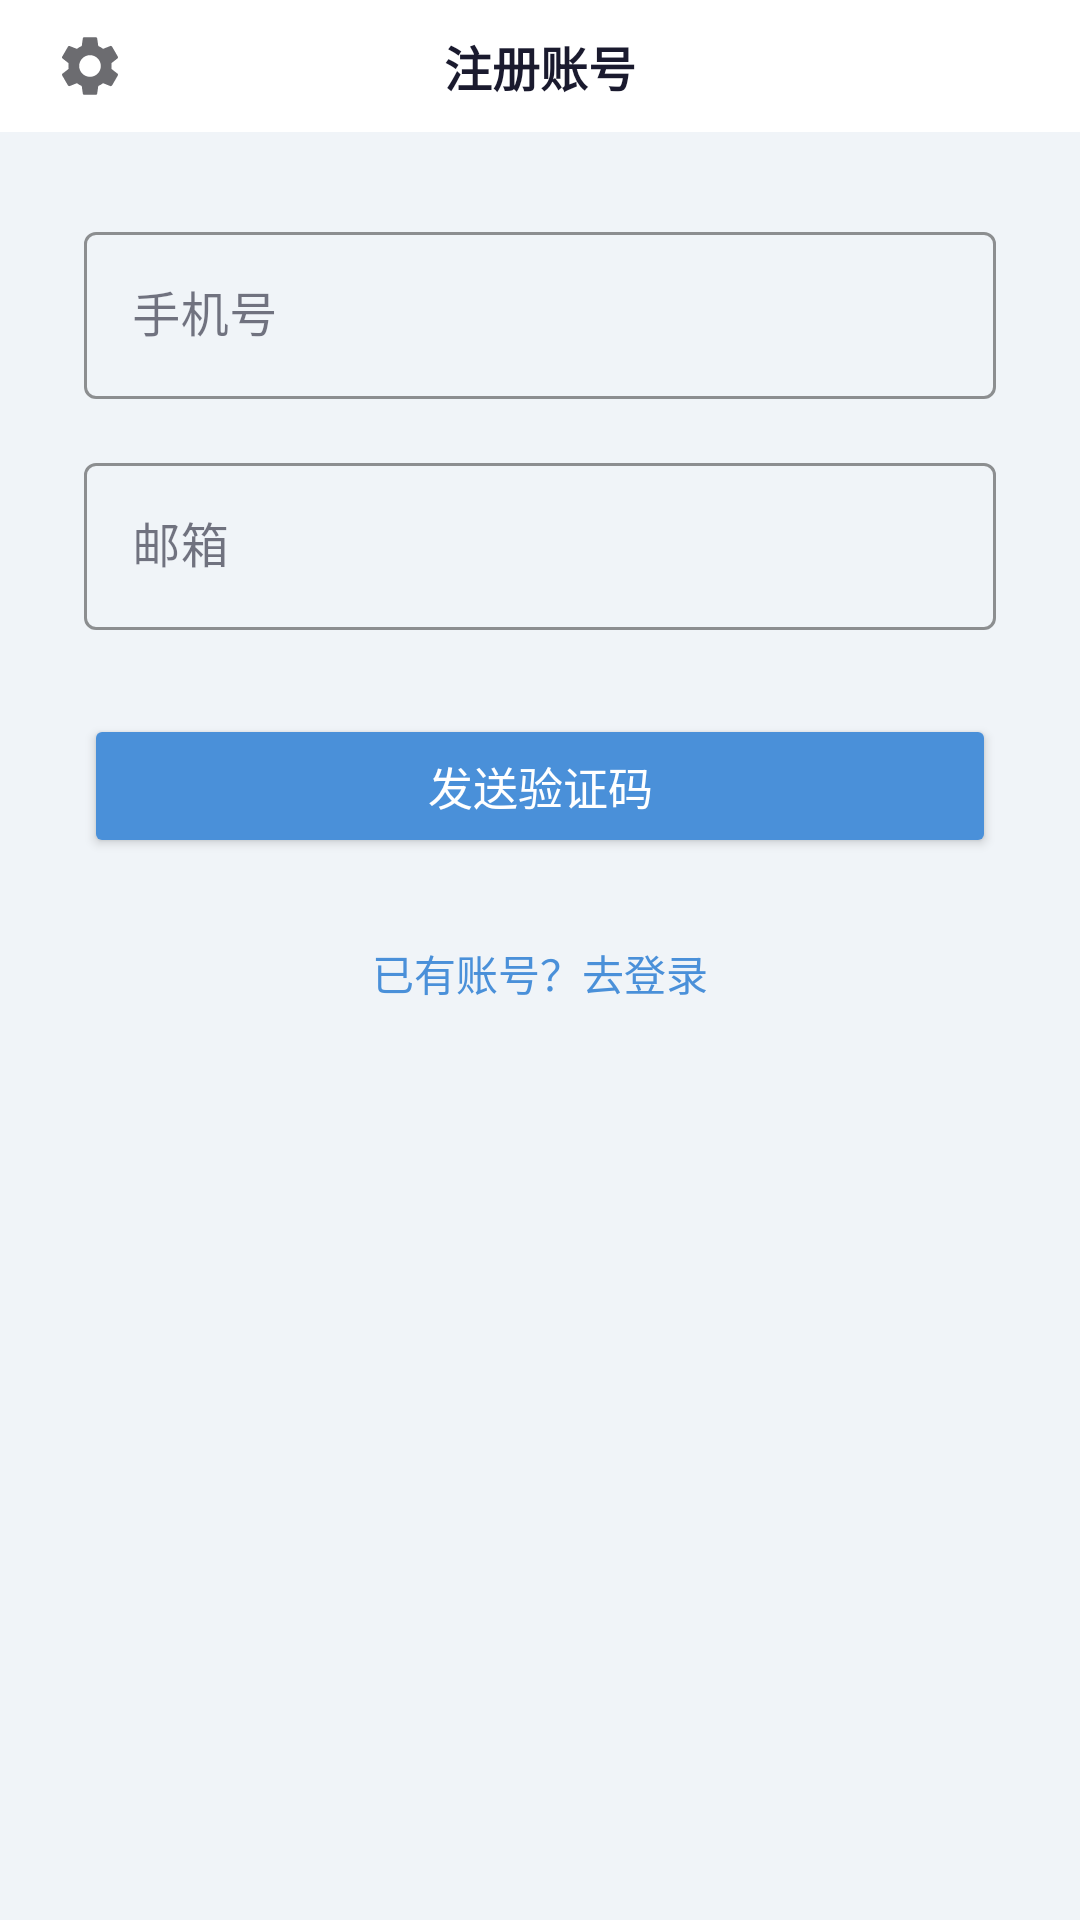

Where to tap for icons on this 1080 × 1920 app screen, as (x,y):
设置: (90,66)
